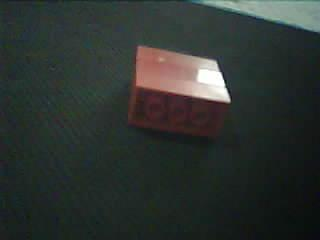lego: (125, 42, 233, 141)
